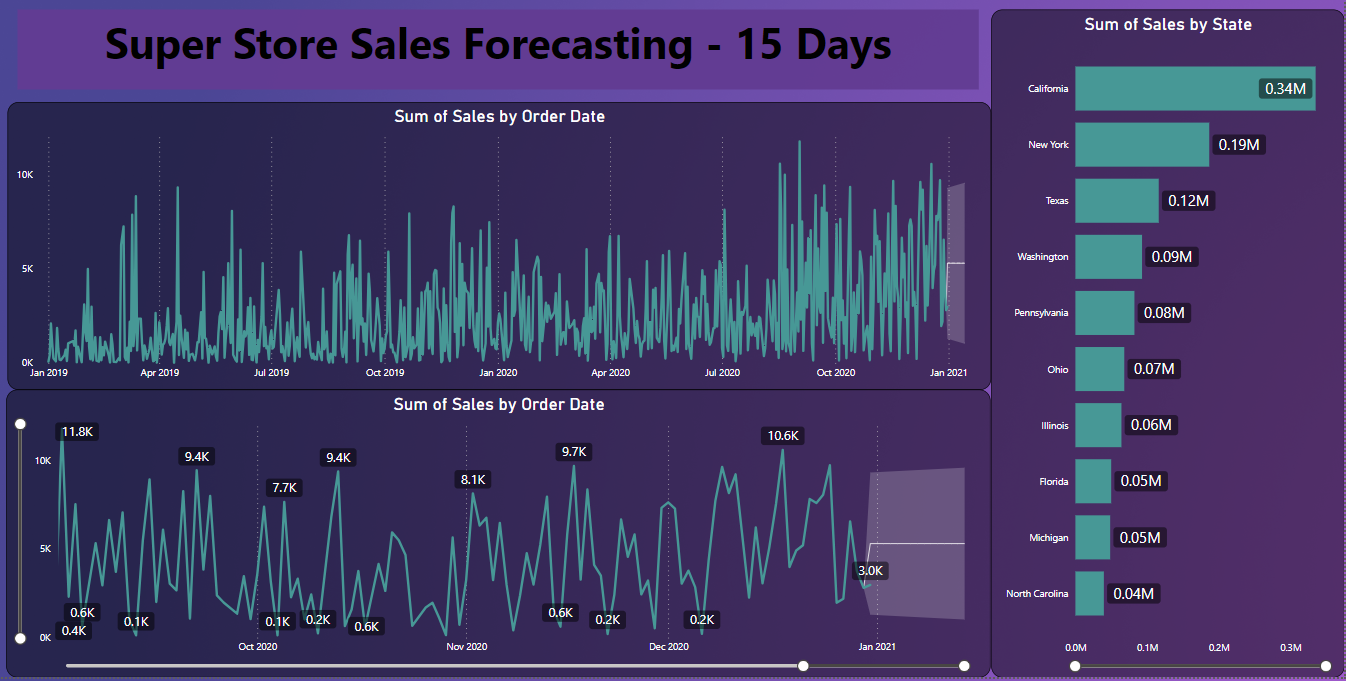

This screenshot's page, from the dashboard's own definition file:
{"tool":"powerbi","page":{"name":"Page 2","canvas":[1680,850],"ordinal":1},"visuals":[{"type":"lineChart","fields":{"Y":["Sum(Superstore sales.Sales)"],"Category":["Superstore sales.Order Date"]},"box":[9.2,130.8,1229.2,360],"z":0},{"type":"lineChart","fields":{"Y":["Sum(Superstore sales.Sales)"],"Category":["Superstore sales.Order Date"]},"box":[7.7,490.8,1230.8,360],"z":1},{"type":"barChart","fields":{"Y":["Sum(Superstore sales.Sales)"],"Category":["Superstore sales.State"]},"box":[1238.5,15.4,441.5,835.4],"z":2},{"type":"textbox","box":[21.5,15.4,1201.5,100],"z":3}]}

Visuals, with their boxes in screenshot pixels (x1, y1, x2, y2), scaled from the page's 1680x850 canvas onto the 1346x681 screenshot:
lineChart - Sum(Superstore sales.Sales) x Superstore sales.Order Date: x1=7, y1=105, x2=992, y2=393
lineChart - Sum(Superstore sales.Sales) x Superstore sales.Order Date: x1=6, y1=393, x2=992, y2=680
barChart - Sum(Superstore sales.Sales) x Superstore sales.State: x1=992, y1=12, x2=1345, y2=680
textbox: x1=17, y1=12, x2=980, y2=92
